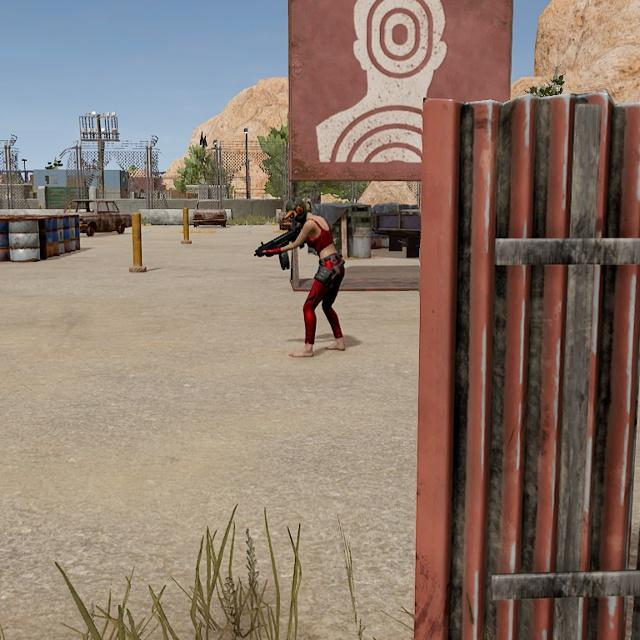head: (283, 195, 309, 225)
people: (278, 195, 347, 357)
